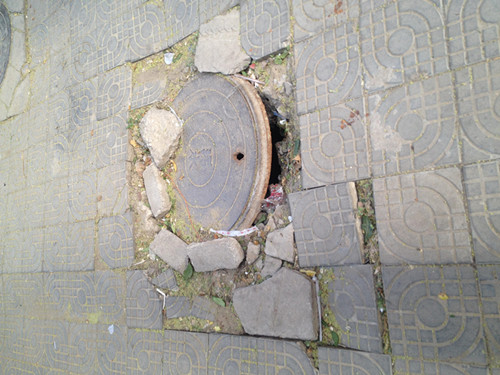circle: (110, 40, 325, 341)
